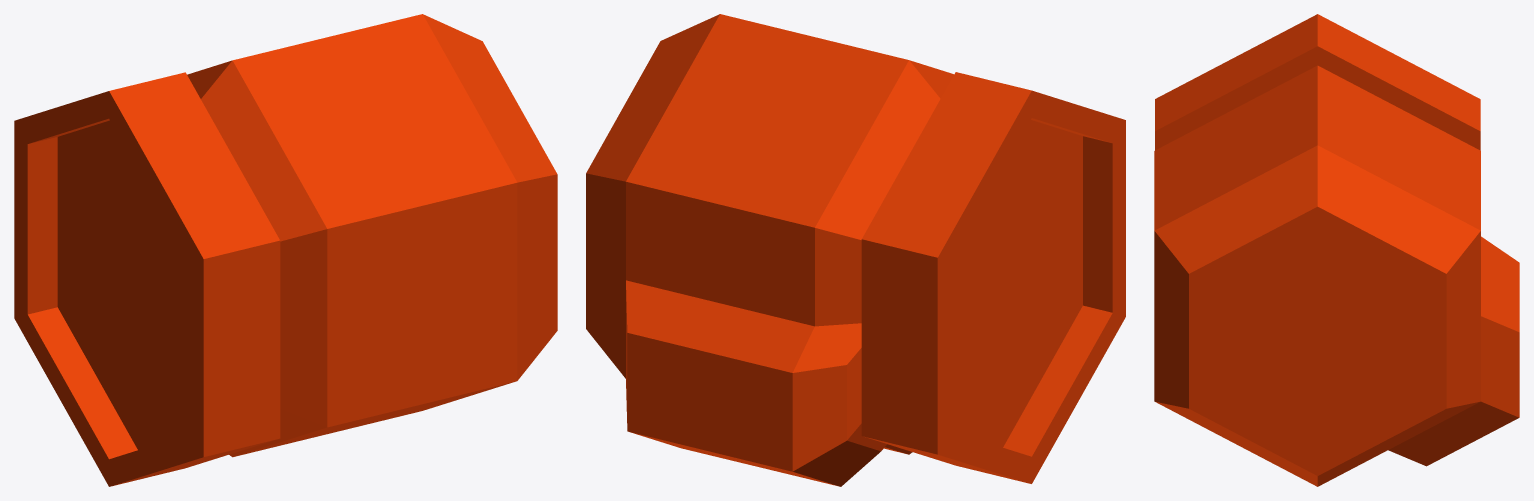
Rendered from PunchHandTest.fbx.
3 renders of one model, left to right at view 1: azimuth 30°, elevation 25°; view 2: azimuth 150°, elevation 25°; view 3: azimuth 270°, elevation 25°, orthographic. The views are drawn at different scales.
Visible parts, largest first — view 1: pCylinder44; view 2: pCylinder44; view 3: pCylinder44.
Part boxes in pixels (x1,y1,x2,y2): pCylinder44: [14, 14, 557, 486]; pCylinder44: [586, 14, 1125, 486]; pCylinder44: [1154, 14, 1519, 486].
Size of the model in its own units: 4.9 by 4.98 by 4.82.
